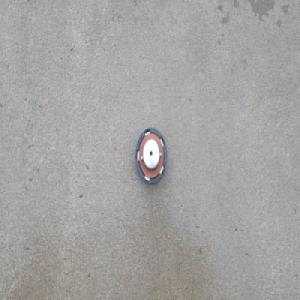FuelCap: (134, 126, 168, 186)
